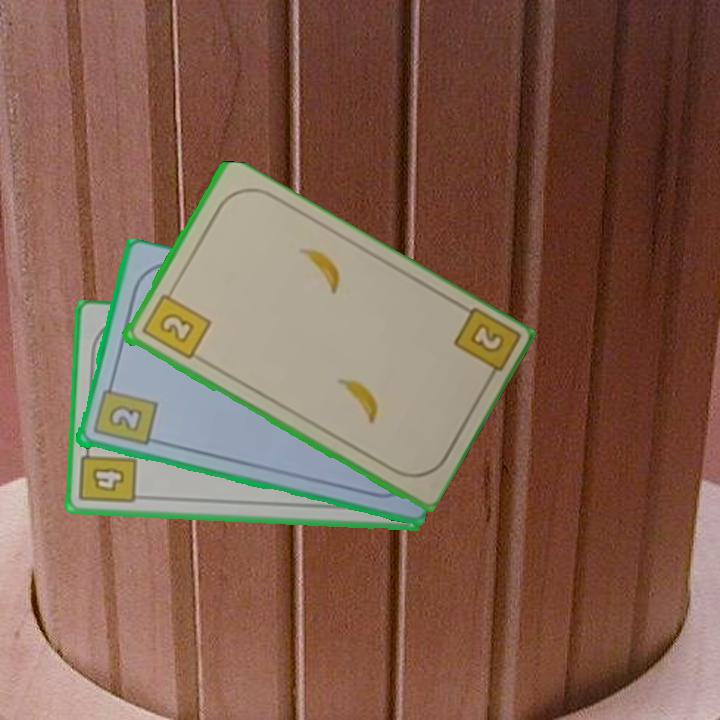2b: (138, 284, 213, 363), (449, 305, 520, 388), (89, 378, 159, 449)
4b: (76, 441, 139, 507)
